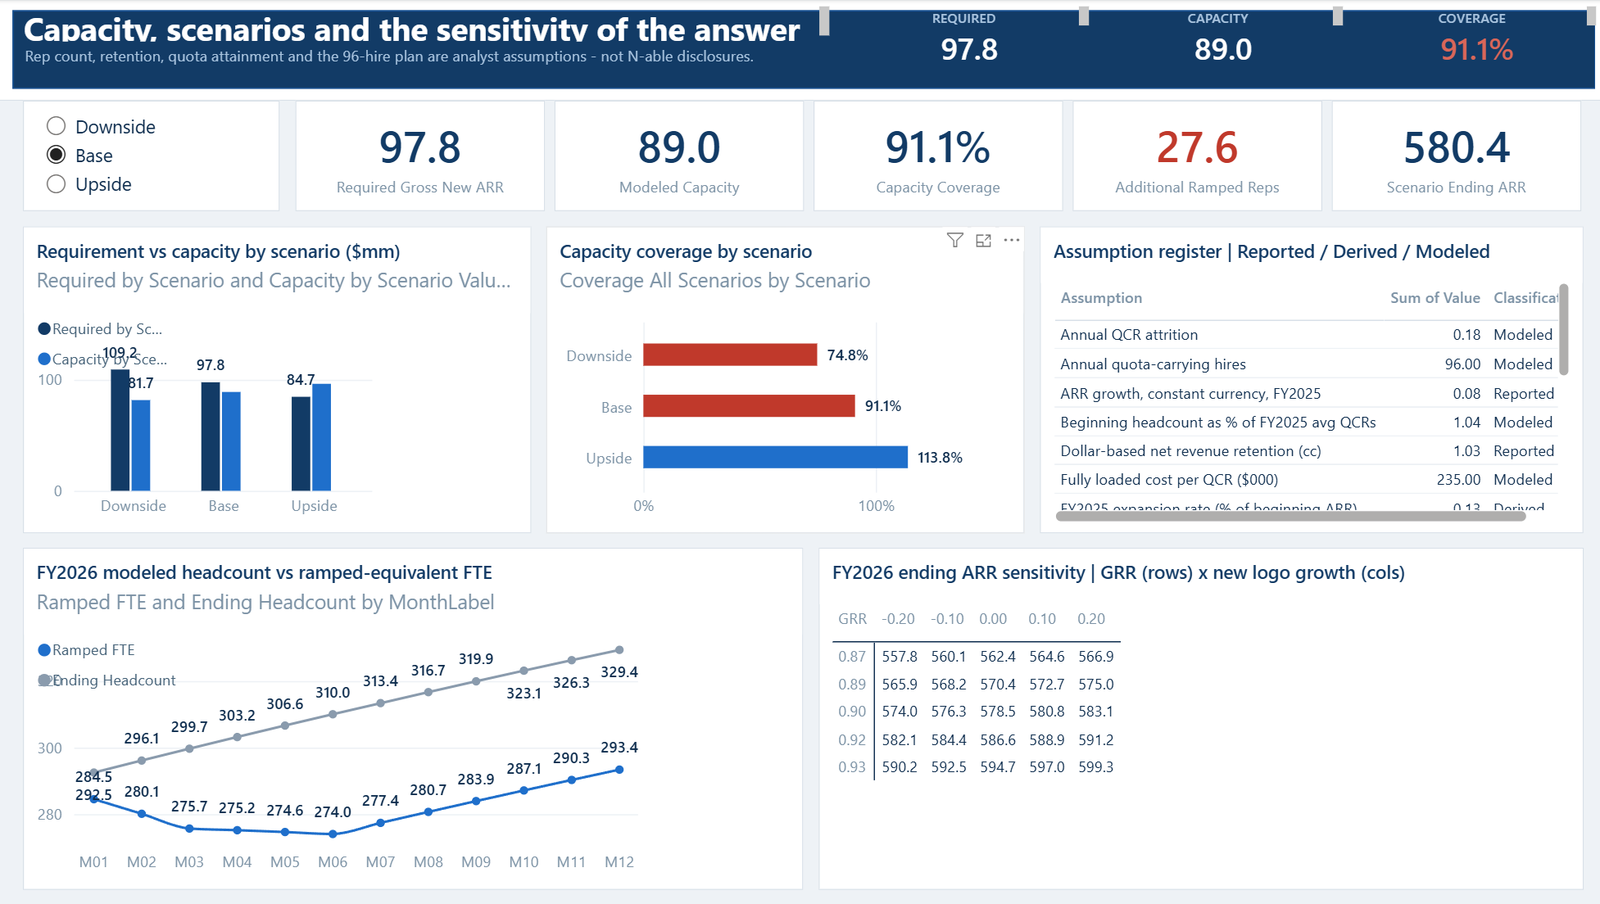

Layout of this report page (visuals, bound fields, positions):
{"tool":"powerbi","page":{"name":"GTM Capacity & Scenarios","canvas":[1280,720],"ordinal":2},"visuals":[{"type":"shape","box":[0,0,1280,80.6],"z":0},{"type":"textbox","box":[20,6,640,28],"z":1000},{"type":"textbox","box":[21.2,36.6,639.6,35],"z":2000},{"type":"card","fields":{"Values":["_Measures.Required Gross New ARR"]},"box":[676,22,190,36],"z":3000},{"type":"card","fields":{"Values":["_Measures.Modeled Capacity"]},"box":[878,22,190,36],"z":4000},{"type":"card","fields":{"Values":["_Measures.Capacity Coverage"]},"box":[1080,22,190,36],"z":5000},{"type":"slicer","fields":{"Values":["Scenario.Scenario"]},"box":[19.7,80.4,204,88],"z":6000},{"type":"card","fields":{"Values":["_Measures.Required Gross New ARR"]},"box":[235.7,80.4,198,88],"z":7000},{"type":"card","fields":{"Values":["_Measures.Modeled Capacity"]},"box":[441.7,80.4,198,88],"z":8000},{"type":"card","fields":{"Values":["_Measures.Capacity Coverage"]},"box":[647.7,80.4,198,88],"z":9000},{"type":"card","fields":{"Values":["_Measures.Additional Ramped Reps"]},"box":[853.7,80.4,198,88],"z":10000},{"type":"card","fields":{"Values":["_Measures.Scenario Ending ARR"]},"box":[1059.7,80.4,198,88],"z":11000},{"type":"clusteredColumnChart","title":"Requirement vs capacity by scenario  ($mm)","fields":{"Category":["Capacity by Scenario.Scenario"],"Y":["_Measures.Required by Scenario","_Measures.Capacity by Scenario Value"]},"box":[19.7,180.4,404,244],"z":12000},{"type":"clusteredBarChart","title":"Capacity coverage by scenario","fields":{"Category":["Coverage by Scenario.Scenario"],"Y":["_Measures.Coverage All Scenarios"]},"box":[435.7,180.4,380,244],"z":13000},{"type":"tableEx","title":"Assumption register  |  Reported / Derived / Modeled","fields":{"Values":["Assumptions.Assumption","Sum(Assumptions.Value)","Assumptions.Classification"]},"box":[827.7,180.4,432,244],"z":14000},{"type":"lineChart","title":"FY2026 modeled headcount vs ramped-equivalent FTE","fields":{"Category":["Capacity Monthly.MonthLabel"],"Y":["_Measures.Ramped FTE","_Measures.Ending Headcount"]},"box":[19.7,436.4,620,272],"z":15000},{"type":"pivotTable","title":"FY2026 ending ARR sensitivity  |  GRR (rows) x new logo growth (cols)","fields":{"Columns":["Sensitivity.NewLogoGrowth"],"Rows":["Sensitivity.GRR"],"Values":["_Measures.Sensitivity Ending ARR"]},"box":[651.7,436.4,608,272],"z":16000},{"type":"textbox","box":[1080,6,190,15],"z":17000},{"type":"textbox","box":[676,6,190,15],"z":18000},{"type":"textbox","box":[878,6,190,15],"z":19000}]}

Visuals, with their boxes in screenshot pixels (x1, y1, x2, y2), scaled from the page's 1280x720 canvas onto the 1600x904 screenshot:
shape: 0/0/1599/101
textbox: 25/8/825/43
textbox: 26/46/826/90
card - _Measures.Required Gross New ARR: 845/28/1082/73
card - _Measures.Modeled Capacity: 1098/28/1335/73
card - _Measures.Capacity Coverage: 1350/28/1588/73
slicer - Scenario.Scenario: 25/101/280/211
card - _Measures.Required Gross New ARR: 295/101/542/211
card - _Measures.Modeled Capacity: 552/101/800/211
card - _Measures.Capacity Coverage: 810/101/1057/211
card - _Measures.Additional Ramped Reps: 1067/101/1315/211
card - _Measures.Scenario Ending ARR: 1325/101/1572/211
"Requirement vs capacity by scenario  ($mm)" clusteredColumnChart: 25/227/530/533
"Capacity coverage by scenario" clusteredBarChart: 545/227/1020/533
"Assumption register  |  Reported / Derived / Modeled" tableEx: 1035/227/1575/533
"FY2026 modeled headcount vs ramped-equivalent FTE" lineChart: 25/548/800/889
"FY2026 ending ARR sensitivity  |  GRR (rows) x new logo growth (cols)" pivotTable: 815/548/1575/889
textbox: 1350/8/1588/26
textbox: 845/8/1082/26
textbox: 1098/8/1335/26
